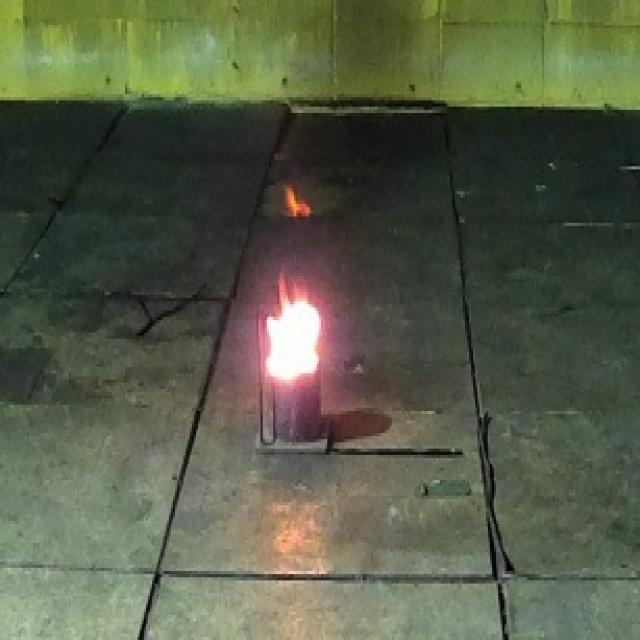Fire: (264, 266, 320, 383)
